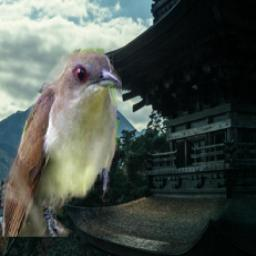Cuckoo: (2, 49, 122, 237)
